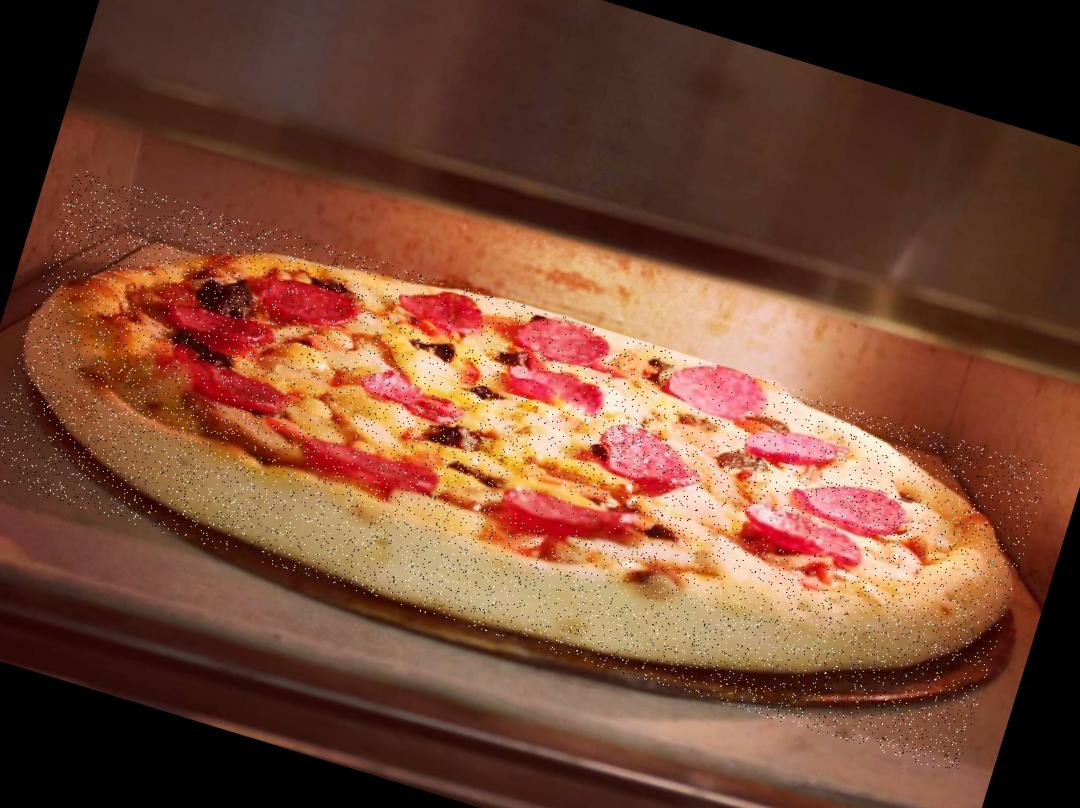Pepperoni: (499, 475, 642, 553), (300, 430, 444, 501), (588, 421, 712, 502), (788, 469, 913, 543), (738, 499, 868, 570), (664, 354, 770, 430), (247, 268, 362, 338), (177, 356, 292, 422), (512, 310, 618, 374), (742, 418, 845, 483), (504, 359, 608, 421), (360, 367, 464, 428), (166, 302, 276, 359), (394, 280, 493, 342)
Pizza: (0, 168, 1050, 776)
